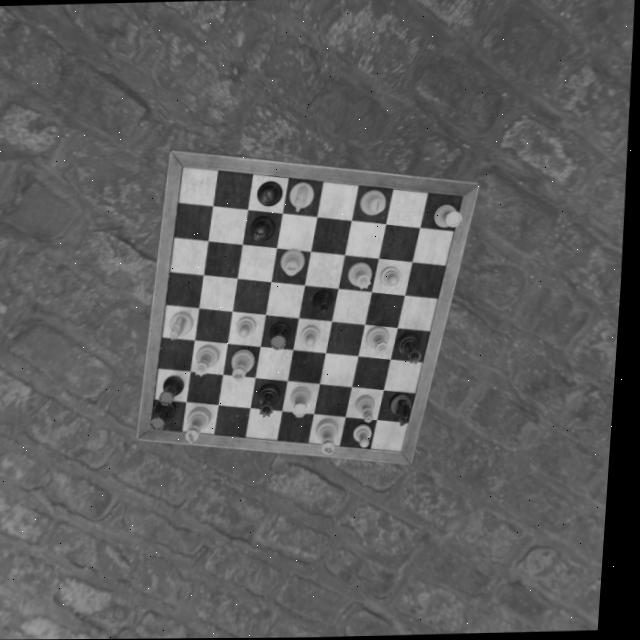chessboard: (156, 167, 465, 453)
